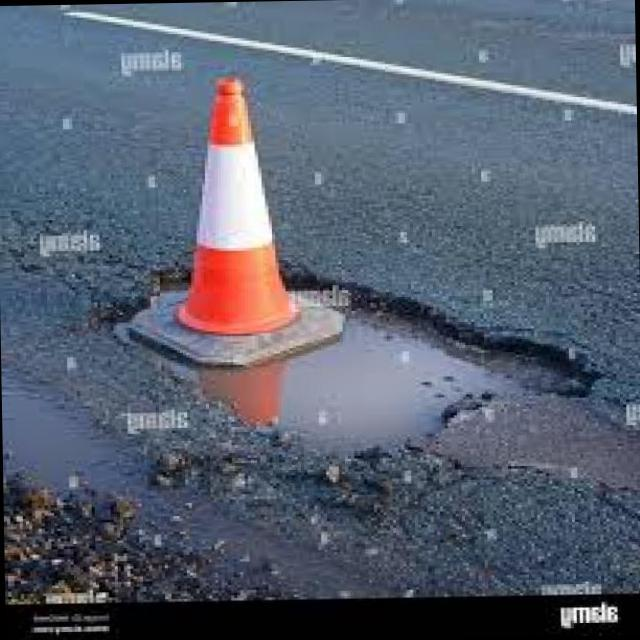Pothole: (202, 300, 607, 443)
